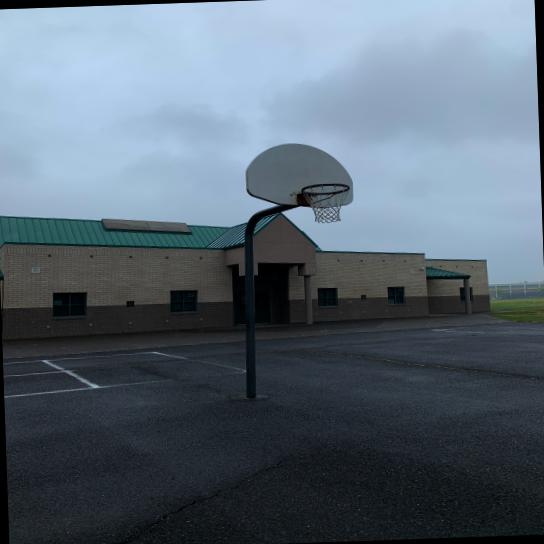basketball-hoop: (300, 182, 353, 225)
